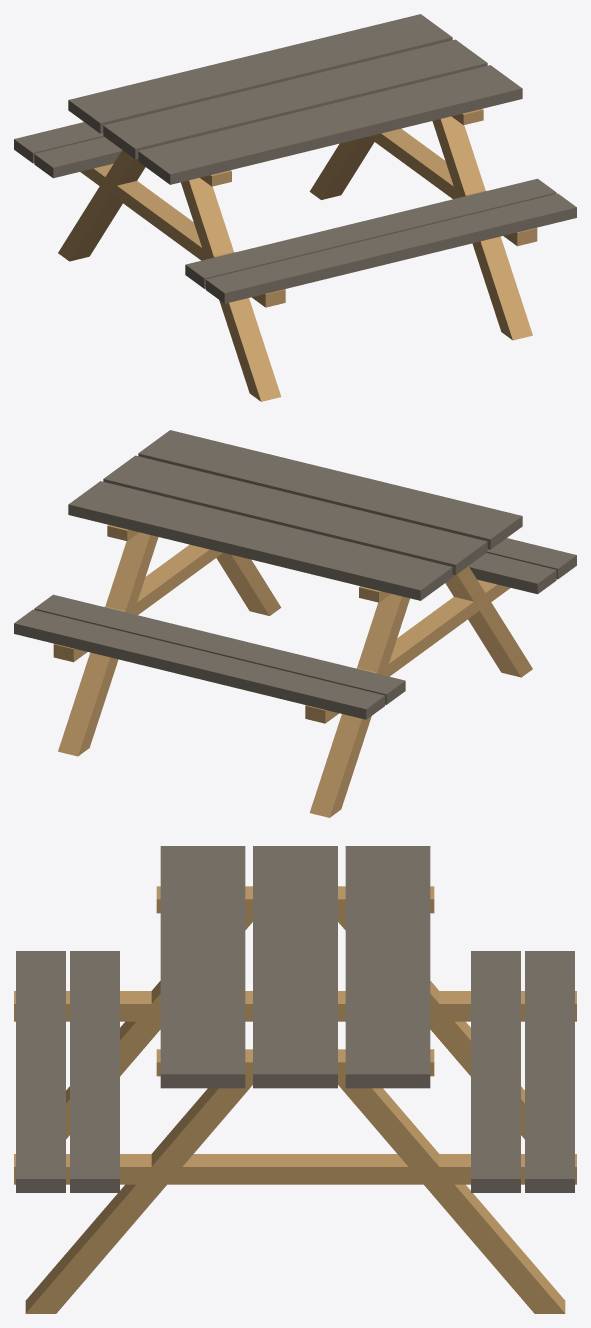
Rendered from picnic_table.glb.
The picture shows the model from 3 angles, top to bottom: view 1: azimuth 30°, elevation 25°; view 2: azimuth 150°, elevation 25°; view 3: azimuth 270°, elevation 25°; orthographic projection. The views are drawn at different scales.
Visible parts, largest first — view 1: picnic_table; view 2: picnic_table; view 3: picnic_table.
Boxes of the visible parts, x1,y1,x2,y2 form: picnic_table: [14, 14, 576, 401]; picnic_table: [14, 430, 576, 817]; picnic_table: [14, 846, 576, 1313].
Bounding box in the file's own units: 1.4 × 0.76 × 1.46.
Materials: 1 (1 with a texture image).
